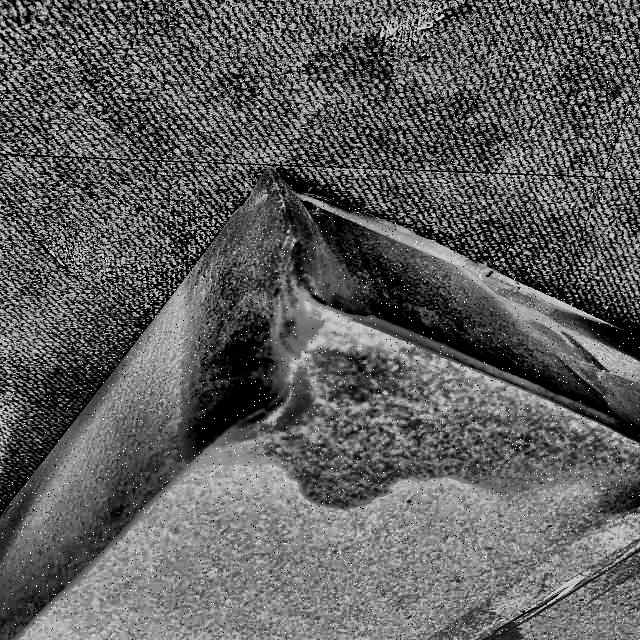box: (0, 178, 640, 640)
wet: (180, 191, 640, 500)
